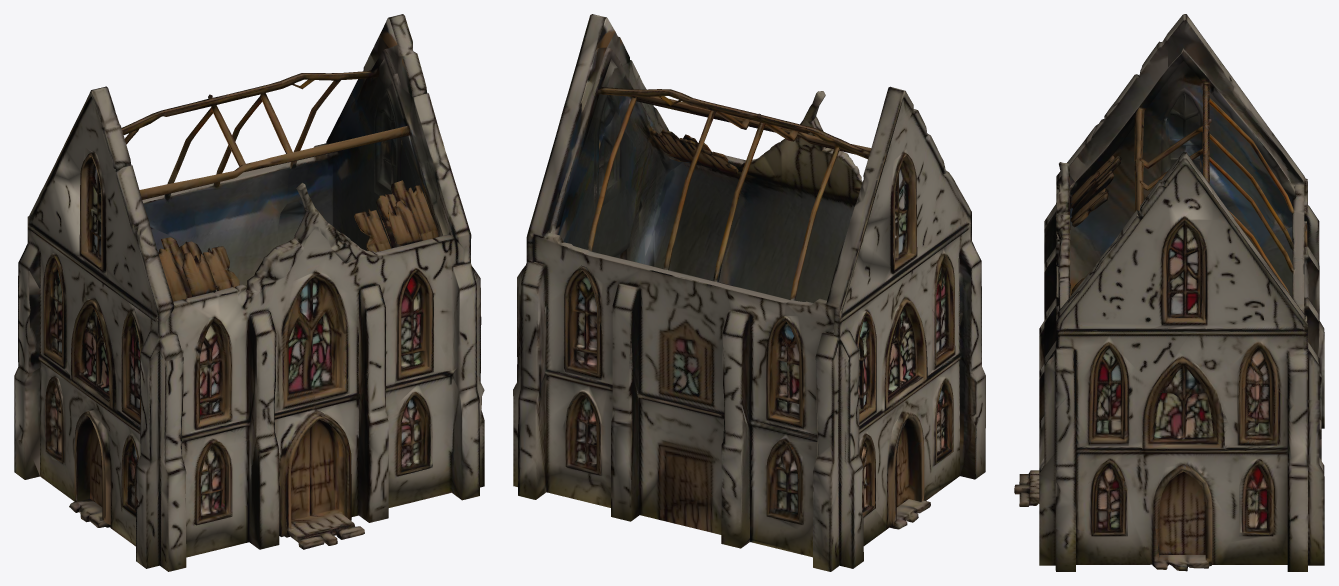
File: ruined+church+3d+model.fbx
The picture shows the model from 3 angles, left to right: view 1: azimuth 30°, elevation 25°; view 2: azimuth 150°, elevation 25°; view 3: azimuth 270°, elevation 25°; orthographic projection. The views are drawn at different scales.
Visible parts, largest first — view 1: tripo_node_1072eb0b; view 2: tripo_node_1072eb0b; view 3: tripo_node_1072eb0b.
Boxes of the visible parts, bbox=[...] form: tripo_node_1072eb0b: bbox=[14, 14, 484, 571]; tripo_node_1072eb0b: bbox=[513, 14, 985, 571]; tripo_node_1072eb0b: bbox=[1014, 14, 1324, 571].
Bounding box in the file's own units: 0.8299 × 0.9998 × 0.6895.
1 material, 1 textured.
